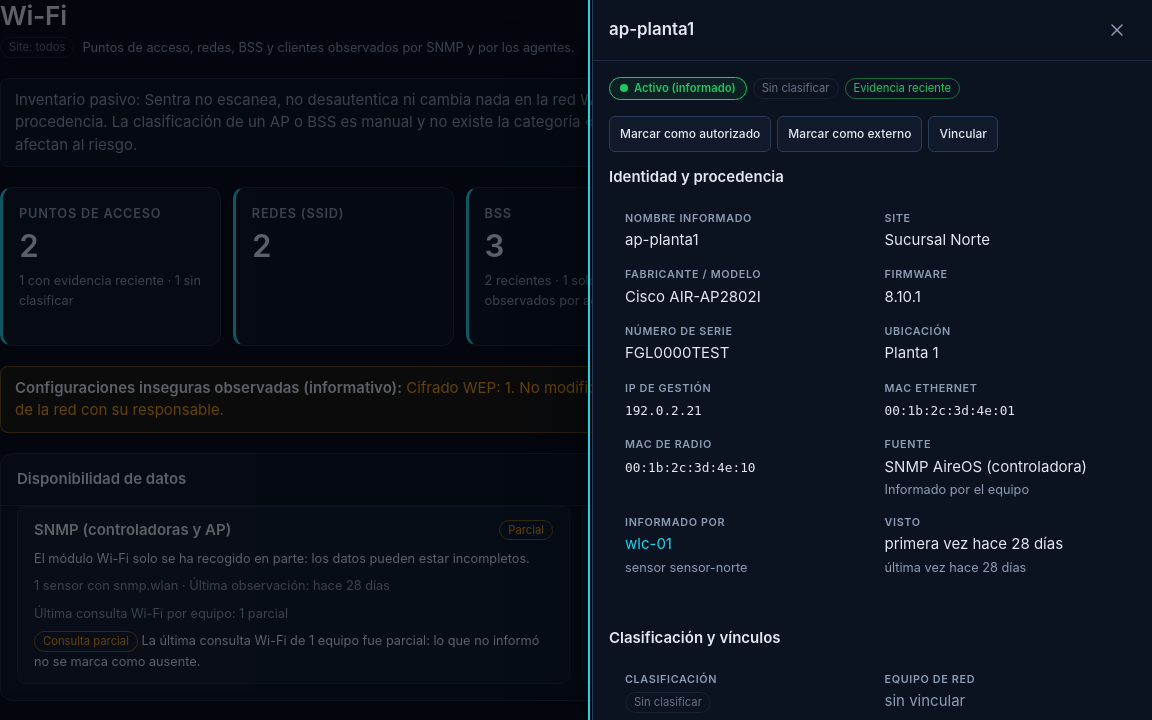
it: WlanPage: detalle de AP y permisos › admin: vincular exige elegir destino y confirmar
Click the button "Vincular" at (963, 134), box [928,116,998,152]
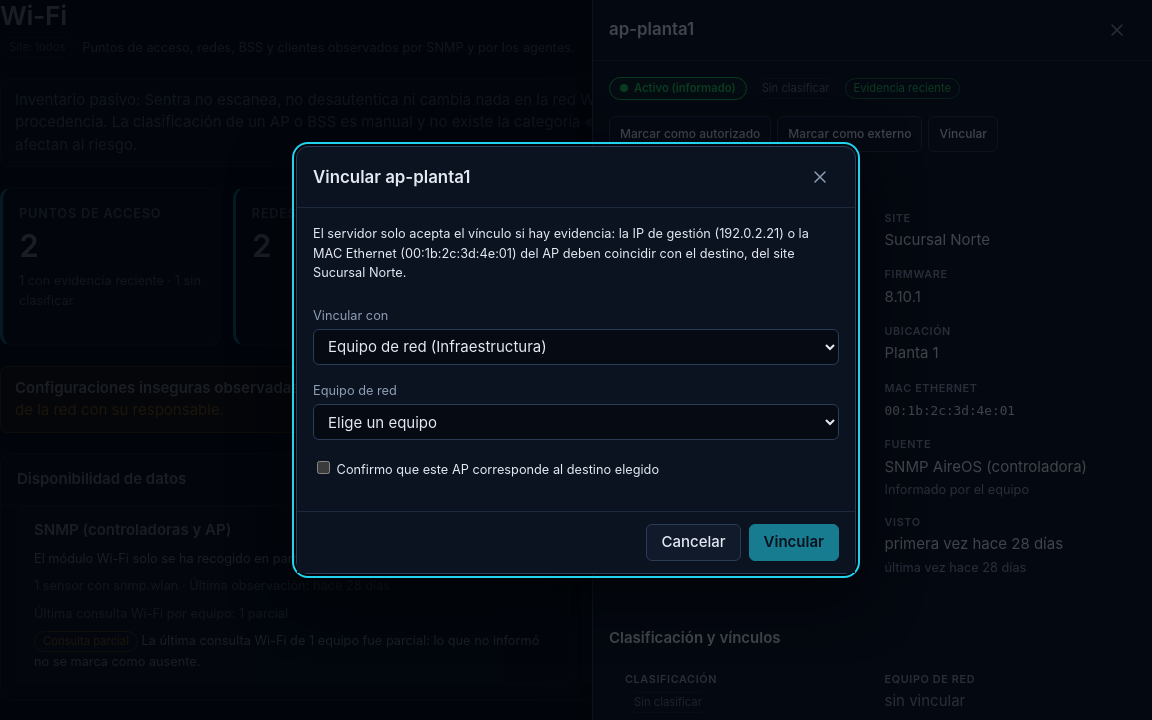
Expected: the button "Vincular" is disabled, [749,524,839,561]
Select "wlc-01 (192.0.2.21)" in the dropdown labelled "Equipo de red" at (576, 422), box [313,404,839,440]
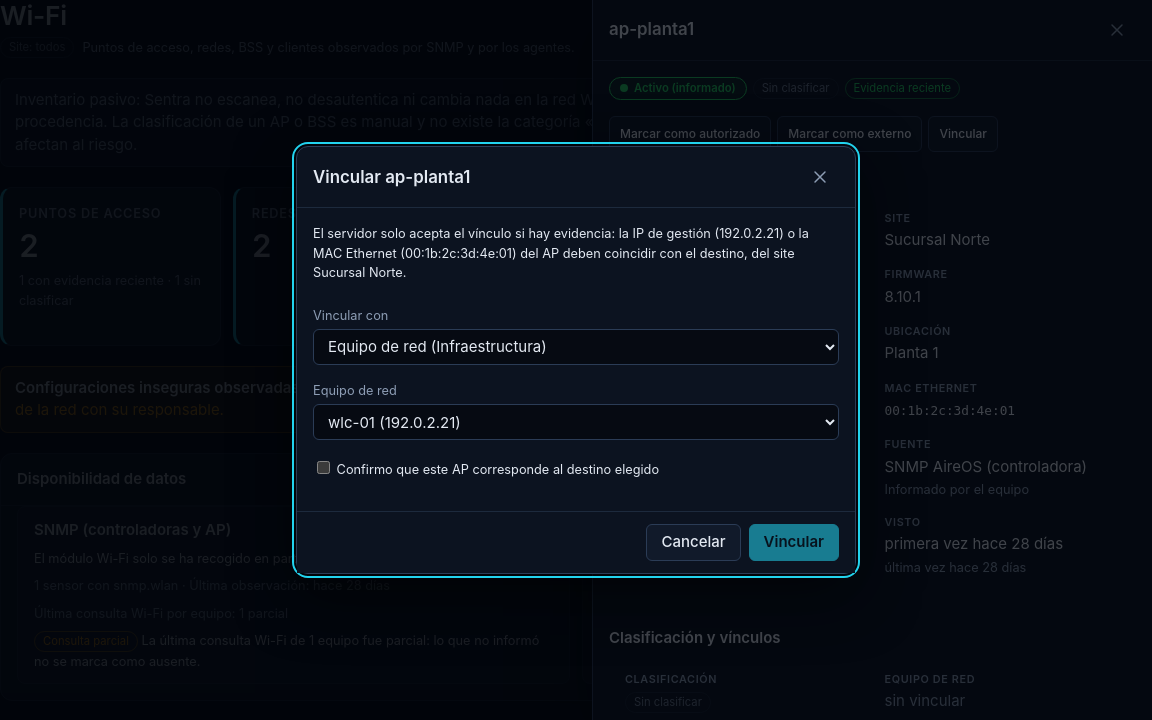
Expected: the button "Vincular" is disabled, [749,524,839,561]
Click the checkbox labelled "Confirmo que este AP corresponde al destino elegido" at (324, 468), box [317,461,330,474]
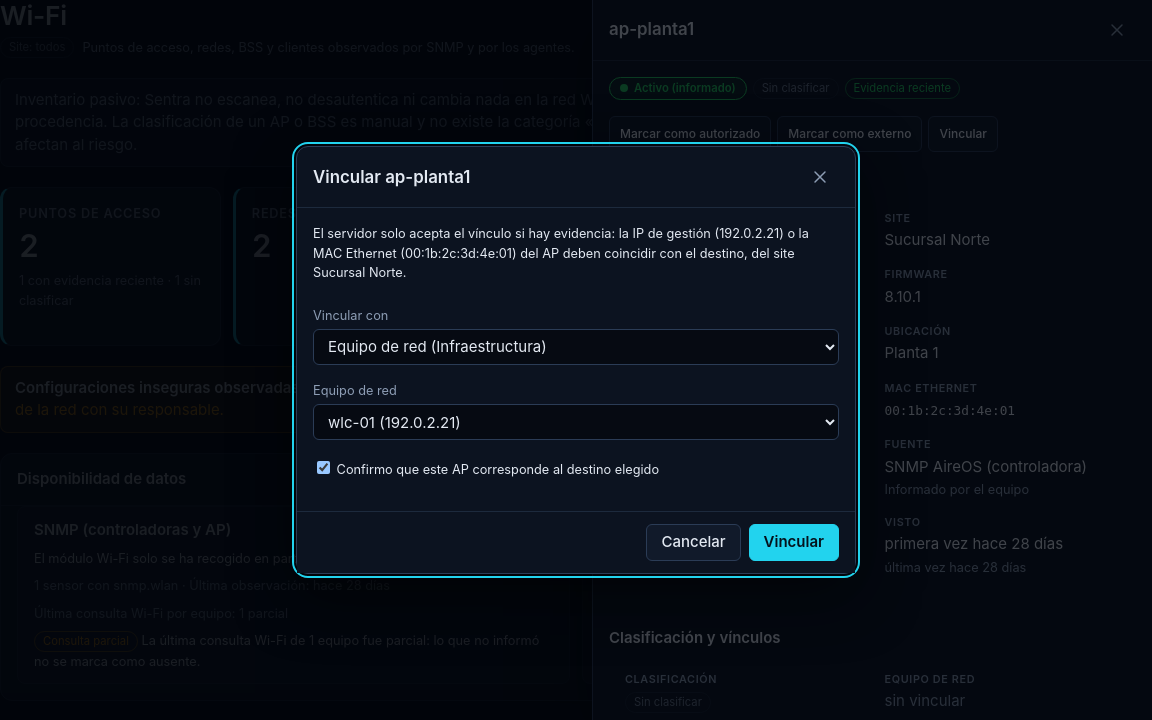
Click the button "Vincular" at (794, 542), box [749,524,839,561]
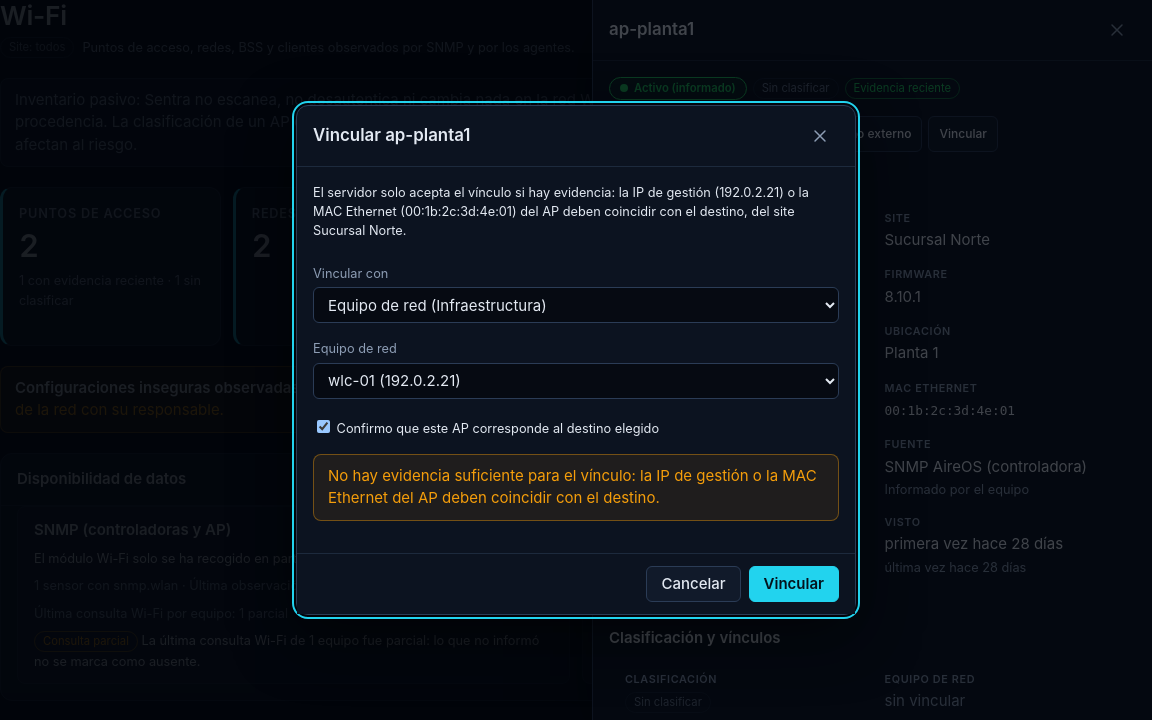
Expected: the message shows "No hay evidencia suficiente", [328,466,817,507]
